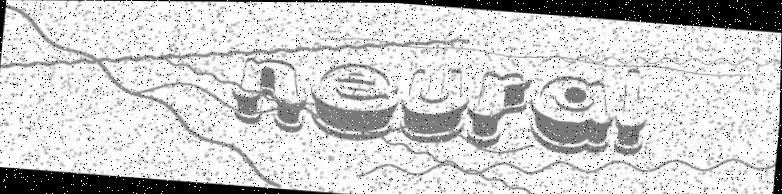a: (522, 66, 619, 152)
e: (305, 53, 403, 140)
l: (612, 62, 655, 157)
n: (225, 48, 314, 132)
r: (465, 62, 534, 151)
u: (397, 60, 473, 140)
